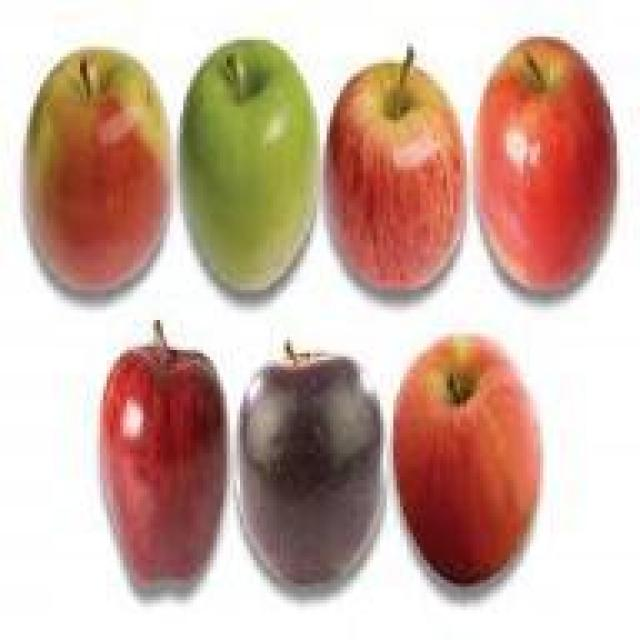apple: (466, 37, 616, 290), (393, 323, 540, 580), (23, 43, 174, 290), (180, 34, 317, 304), (323, 56, 470, 296), (237, 350, 380, 587), (100, 347, 230, 593)
